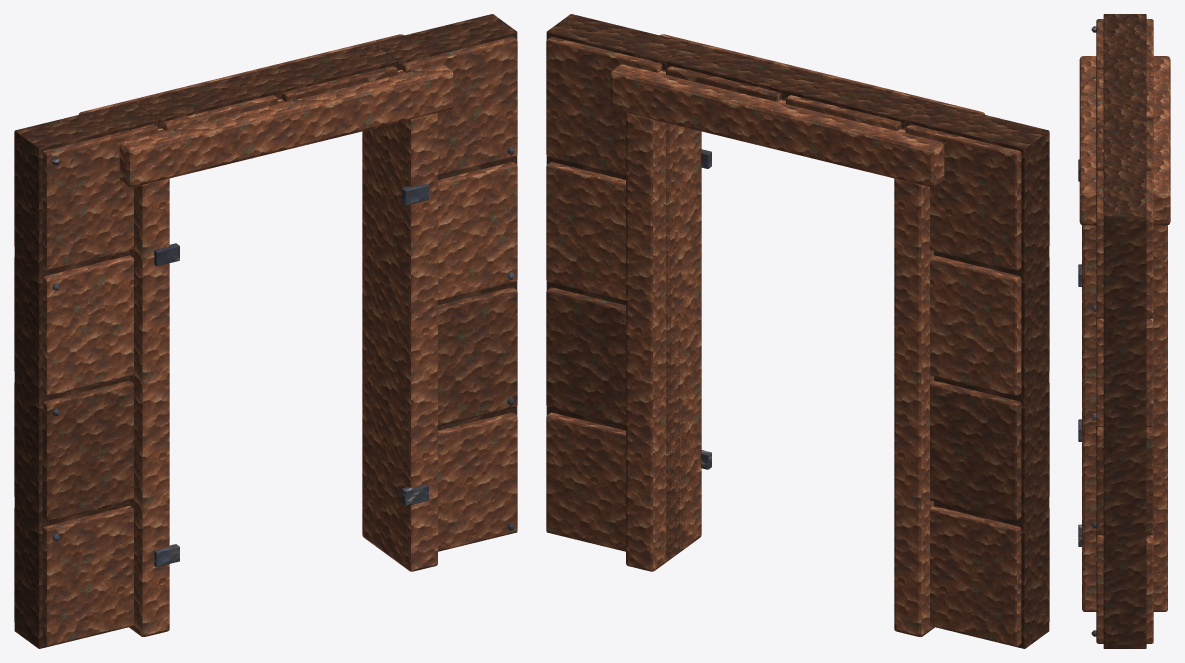
Rendered from doorway__copper_ingot.glb.
The picture shows the model from 3 angles, left to right: view 1: azimuth 30°, elevation 25°; view 2: azimuth 150°, elevation 25°; view 3: azimuth 270°, elevation 25°; orthographic projection. The views are drawn at different scales.
Parts seen in each view (by area): view 1: model; view 2: model; view 3: model.
Part boxes in pixels (left/top/right/bottom): model: left=14, top=14, right=517, bottom=648; model: left=546, top=14, right=1049, bottom=648; model: left=1078, top=14, right=1170, bottom=648.
Bounding box in the file's own units: 2 × 2.01 × 0.385.
7 materials, 7 textured.
